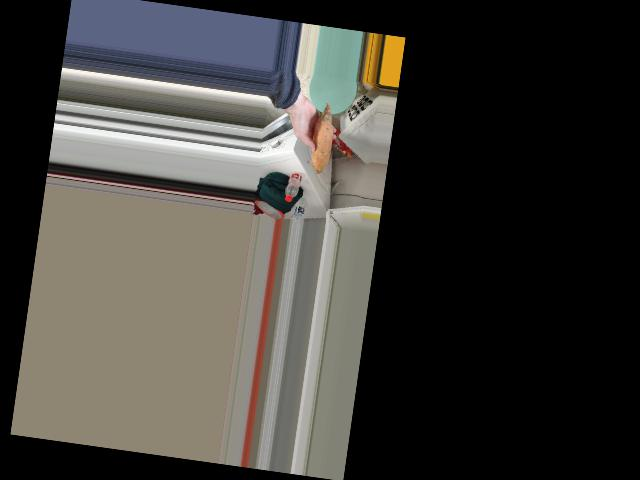sweet_potato: (310, 111, 333, 165)
